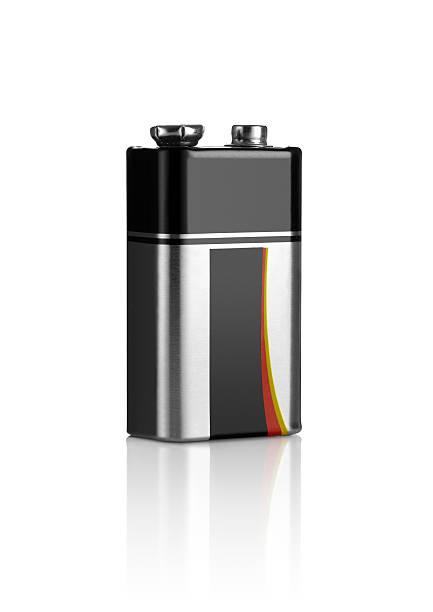9V Battery: (126, 124, 302, 445)
